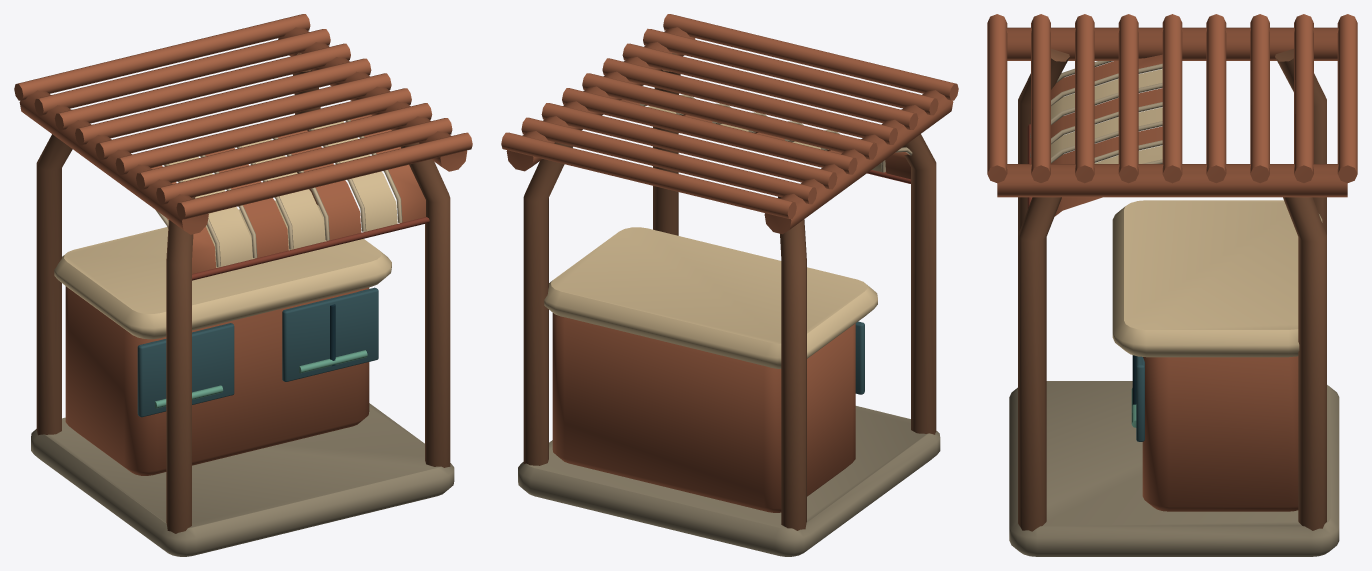
File: annex_workshop_4.glb
The picture shows the model from 3 angles, left to right: view 1: azimuth 30°, elevation 25°; view 2: azimuth 150°, elevation 25°; view 3: azimuth 270°, elevation 25°; orthographic projection. The views are drawn at different scales.
Visible parts, largest first — view 1: Annex_workshop_4; view 2: Annex_workshop_4; view 3: Annex_workshop_4.
Part boxes in pixels (x1,y1,x2,y2): Annex_workshop_4: (14,14,472,556); Annex_workshop_4: (501,14,958,556); Annex_workshop_4: (987,14,1357,556).
Bounding box in the file's own units: 1.93 × 2.32 × 1.98.
